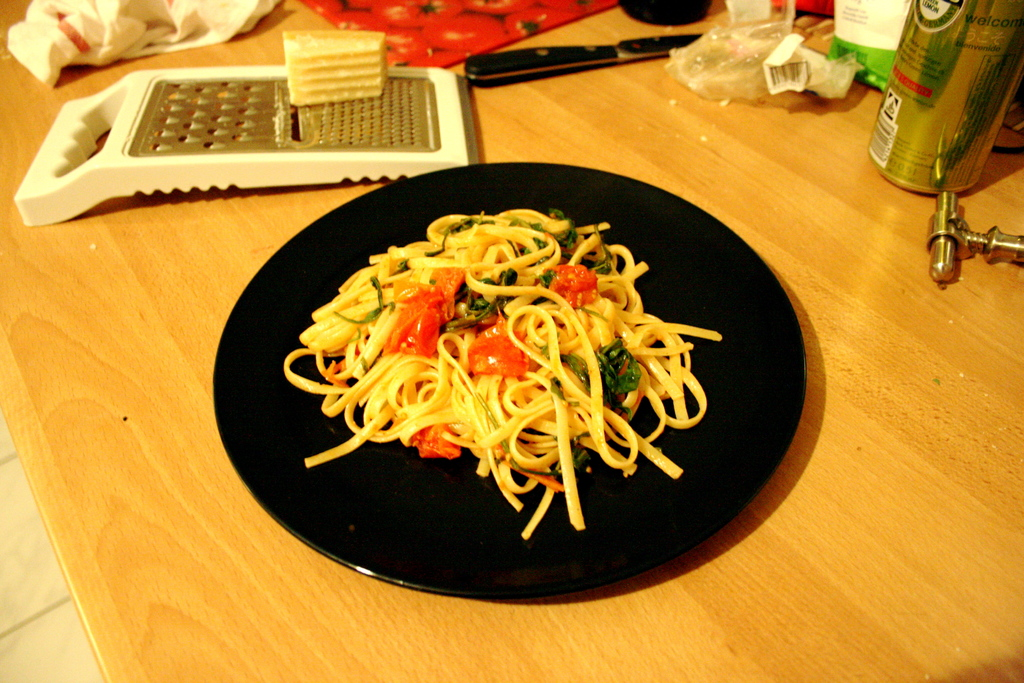pasta: (312, 208, 717, 557)
